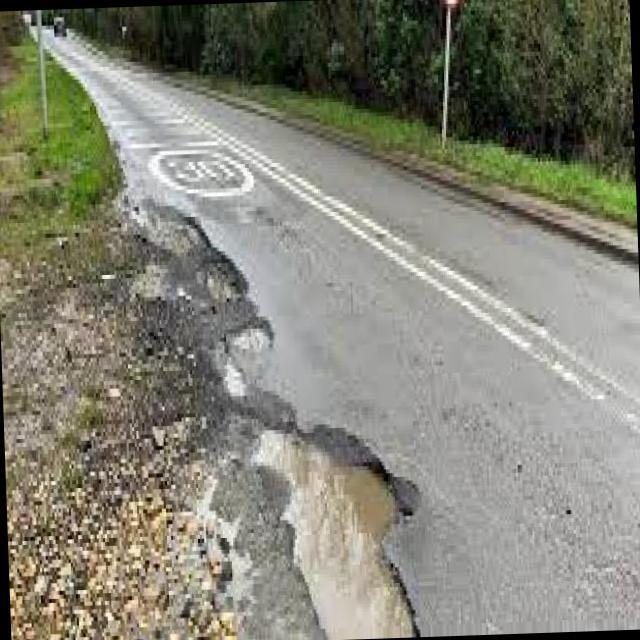Pothole: (244, 426, 420, 640)
